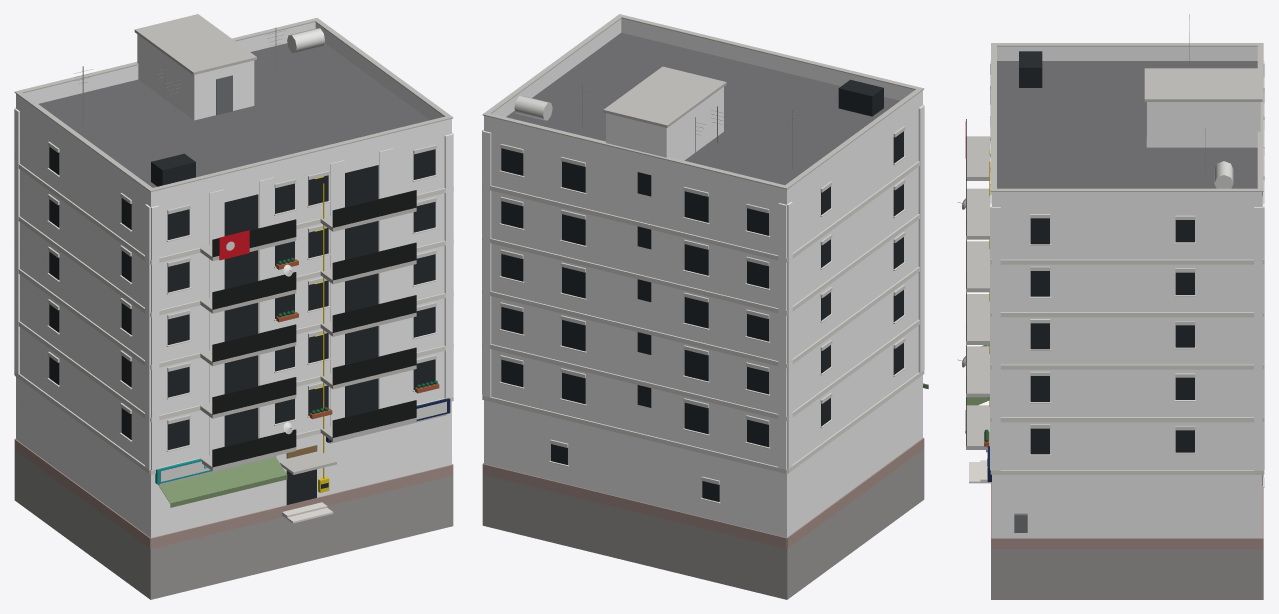
The model's file is bina_05.glb.
3 views of the same model, side by side, from view 1: azimuth 30°, elevation 25°; view 2: azimuth 150°, elevation 25°; view 3: azimuth 270°, elevation 25° (orthographic).
Parts seen in each view (by area): view 1: P05_Apt_Dukkanli_F_L1.001; view 2: P05_Apt_Dukkanli_F_L1.001; view 3: P05_Apt_Dukkanli_F_L1.001.
Part boxes in pixels (<box>): P05_Apt_Dukkanli_F_L1.001: <box>14,14,453,599</box>; P05_Apt_Dukkanli_F_L1.001: <box>482,14,928,599</box>; P05_Apt_Dukkanli_F_L1.001: <box>957,14,1264,599</box>.
Bounding box in the file's own units: 18.31 × 25.89 × 15.91.
